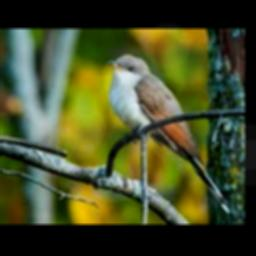Cuckoo: (107, 54, 230, 212)
